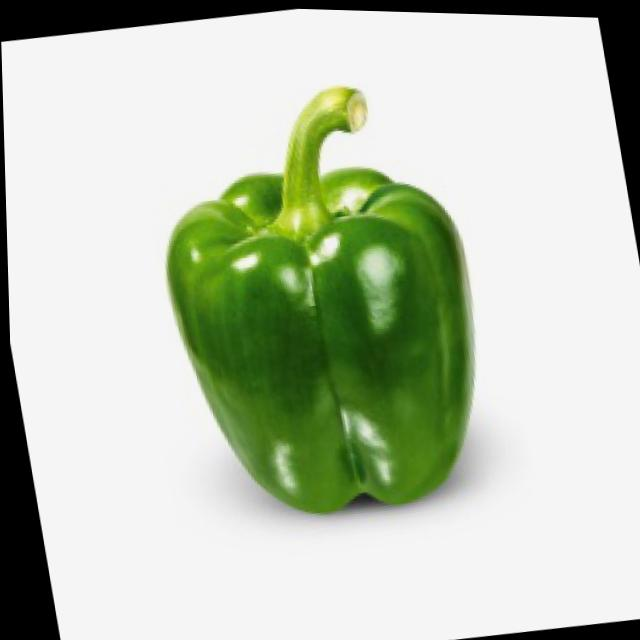Capsicum: (148, 138, 503, 534)
